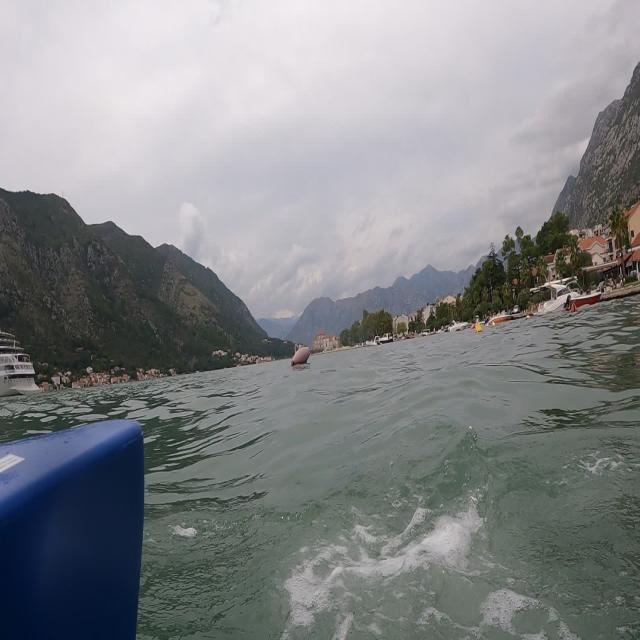boat: (528, 272, 605, 315)
buoy: (287, 338, 314, 372), (472, 315, 484, 338)
